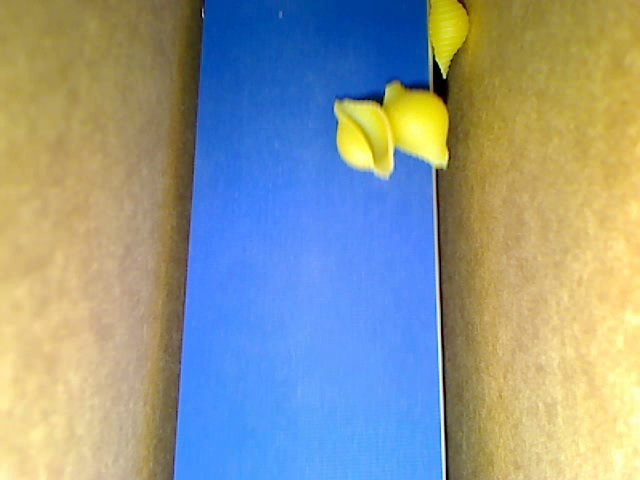shell: (380, 80, 450, 172), (330, 95, 394, 181), (428, 1, 470, 83)
